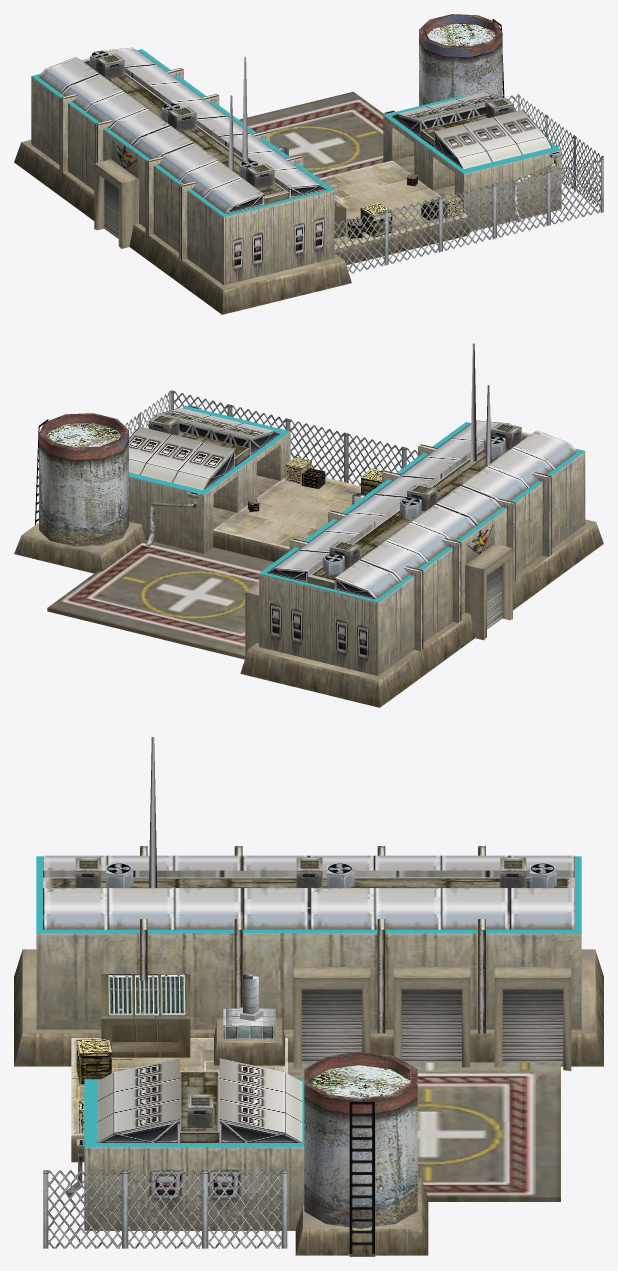
Rendered from supply_depot.glb.
3 renders of one model, top to bottom at view 1: azimuth 30°, elevation 25°; view 2: azimuth 150°, elevation 25°; view 3: azimuth 270°, elevation 25°, orthographic. The views are drawn at different scales.
Parts seen in each view (by area): view 1: BOX34 (×19), LINE02, HOUSECOLOR01; view 2: BOX34 (×20), LINE02, HOUSECOLOR01; view 3: BOX34 (×21), LINE02, HOUSECOLOR01, MESH10.
Part boxes in pixels (left/top/right/bottom): BOX34 (×19): left=14, top=14, right=561, bottom=314; LINE02: left=334, top=94, right=603, bottom=273; HOUSECOLOR01: left=31, top=49, right=560, bottom=216; BOX34 (×20): left=14, top=343, right=603, bottom=707; LINE02: left=125, top=390, right=417, bottom=485; HOUSECOLOR01: left=129, top=405, right=584, bottom=602; BOX34 (×21): left=14, top=736, right=603, bottom=1255; LINE02: left=43, top=1170, right=287, bottom=1248; HOUSECOLOR01: left=36, top=856, right=581, bottom=1146; MESH10: left=349, top=1102, right=375, bottom=1256.
Size of the model in its own units: 99 by 47.55 by 87.05.
32 materials, 30 textured.
